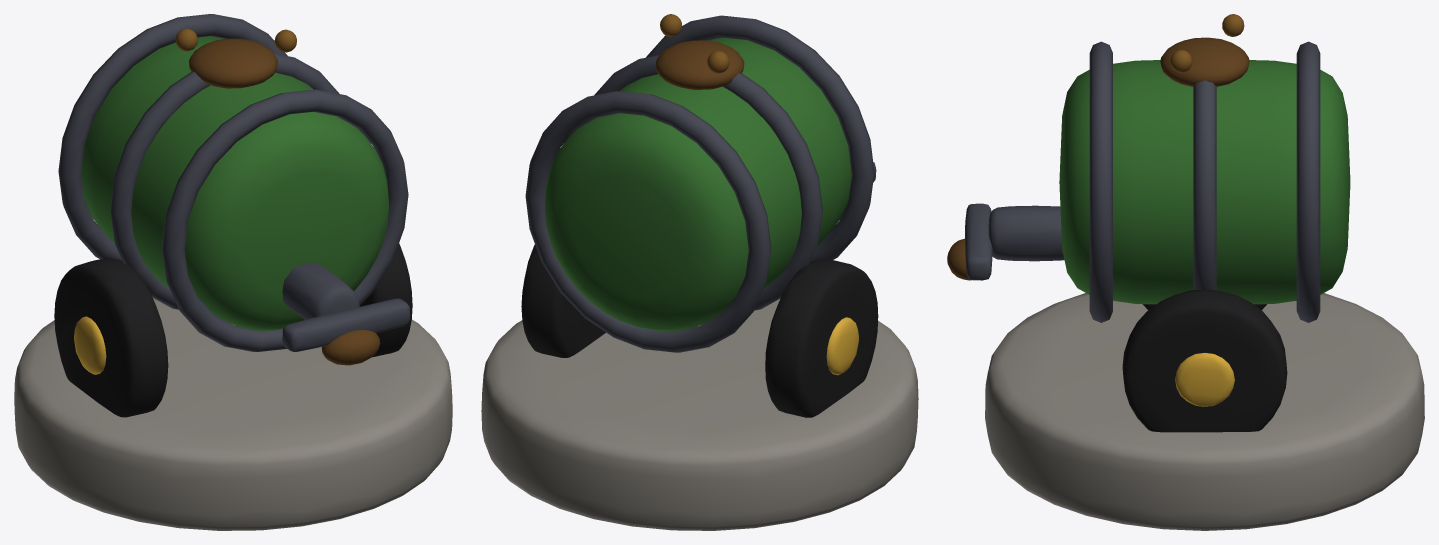
The model's file is Guellefass.fbx.
The picture shows the model from 3 angles, left to right: view 1: azimuth 30°, elevation 25°; view 2: azimuth 150°, elevation 25°; view 3: azimuth 270°, elevation 25°; orthographic projection.
Parts seen in each view (by area): view 1: Guellefass; view 2: Guellefass; view 3: Guellefass.
Boxes of the visible parts, left/top/right/bottom form: Guellefass: left=14, top=14, right=452, bottom=530; Guellefass: left=481, top=14, right=918, bottom=530; Guellefass: left=947, top=14, right=1424, bottom=530.
Size of the model in its own units: 0.9339 by 0.9742 by 1.01.
